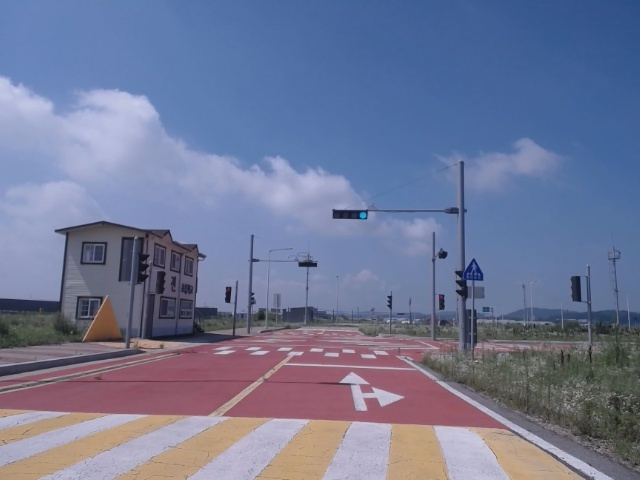straight_green_4: (332, 210, 368, 219)
